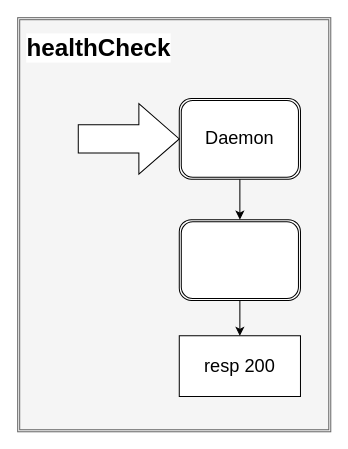
Some shapes in this 348 by 449 pixel diagram are drawn without their labels. The shapes that lost their labels are listed below. From the top down, each one's centre as x and y in pixels, then its label:
the point at 128,138: http
the point at 239,259: /health
